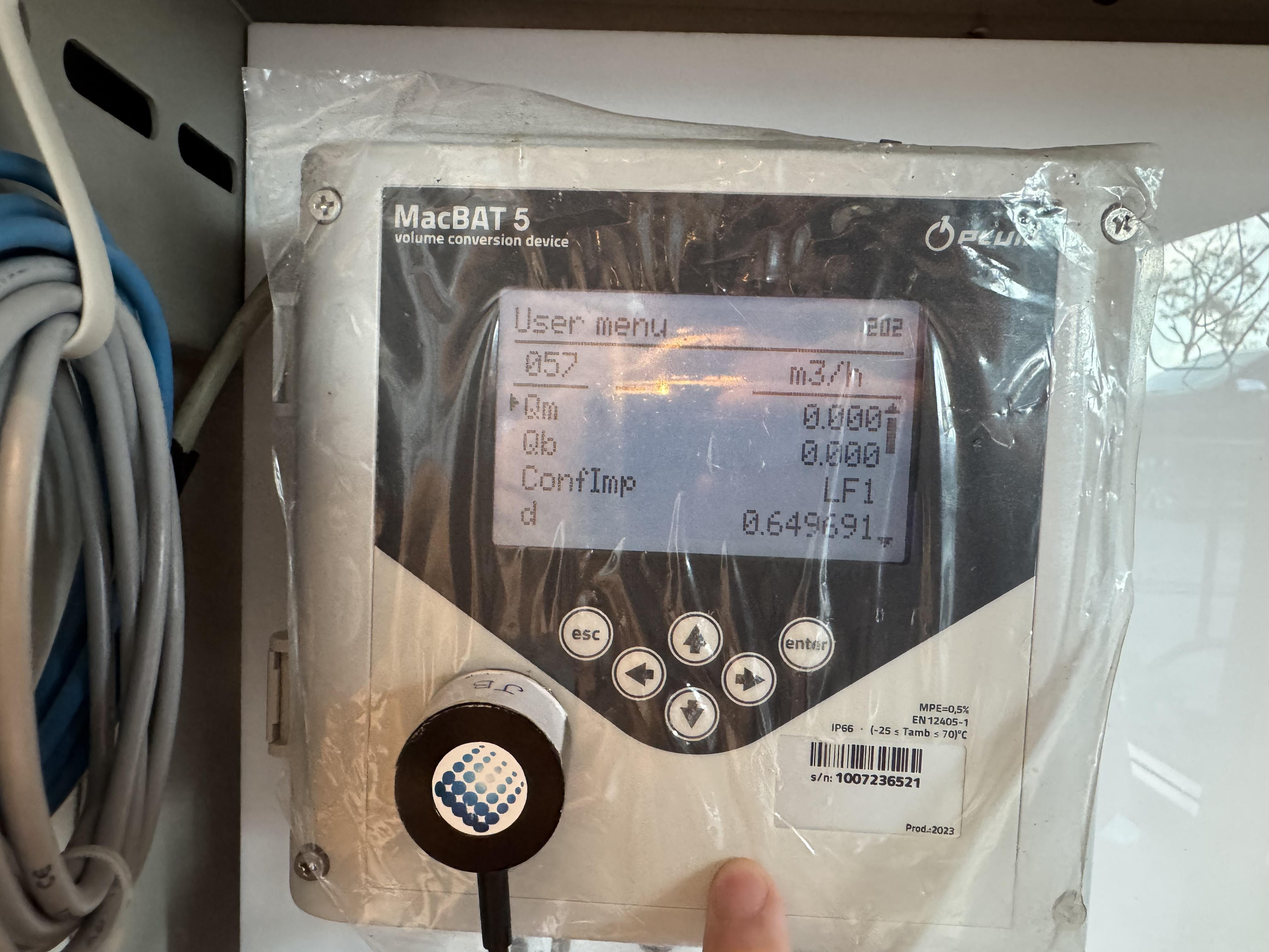digital_screen: (494, 290, 923, 563)
